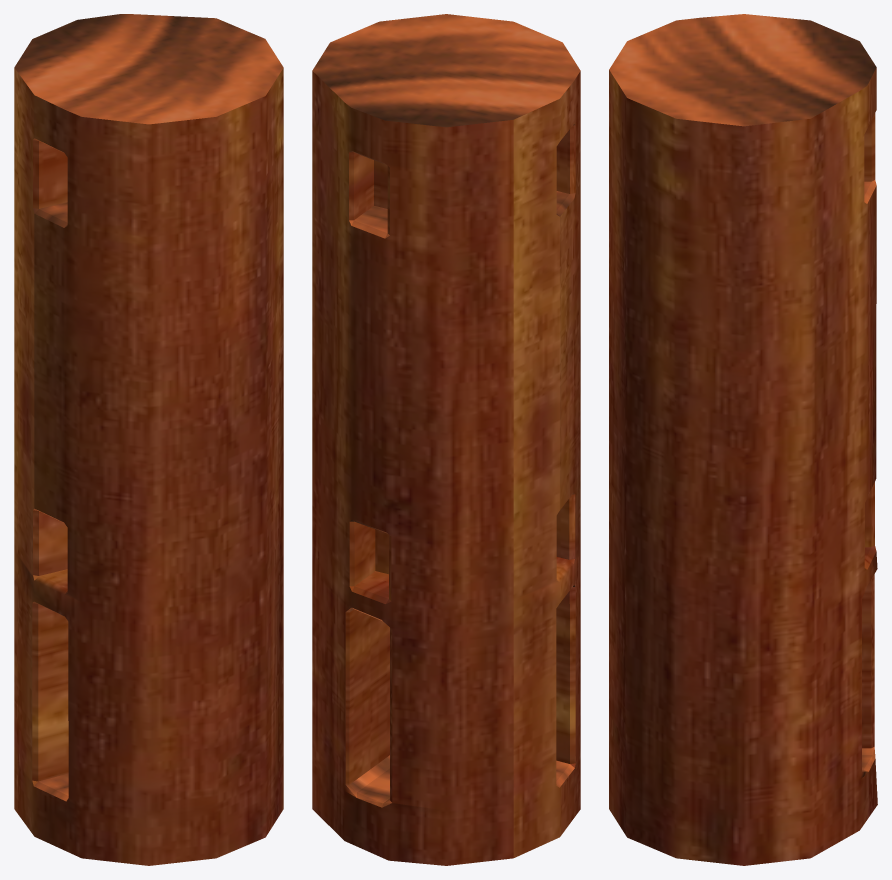
The model's file is SJ_J_tui_02.FBX.
The picture shows the model from 3 angles, left to right: view 1: azimuth 30°, elevation 25°; view 2: azimuth 150°, elevation 25°; view 3: azimuth 270°, elevation 25°; orthographic projection.
Visible parts, largest first — view 1: SJ_J_tui_02; view 2: SJ_J_tui_02; view 3: SJ_J_tui_02.
Part boxes in pixels (x1,y1,x2,y2): SJ_J_tui_02: [14, 14, 283, 865]; SJ_J_tui_02: [312, 14, 580, 865]; SJ_J_tui_02: [609, 14, 877, 865].
Size of the model in its own units: 4 by 12.27 by 4.04.
Materials: 2 (2 with a texture image).
